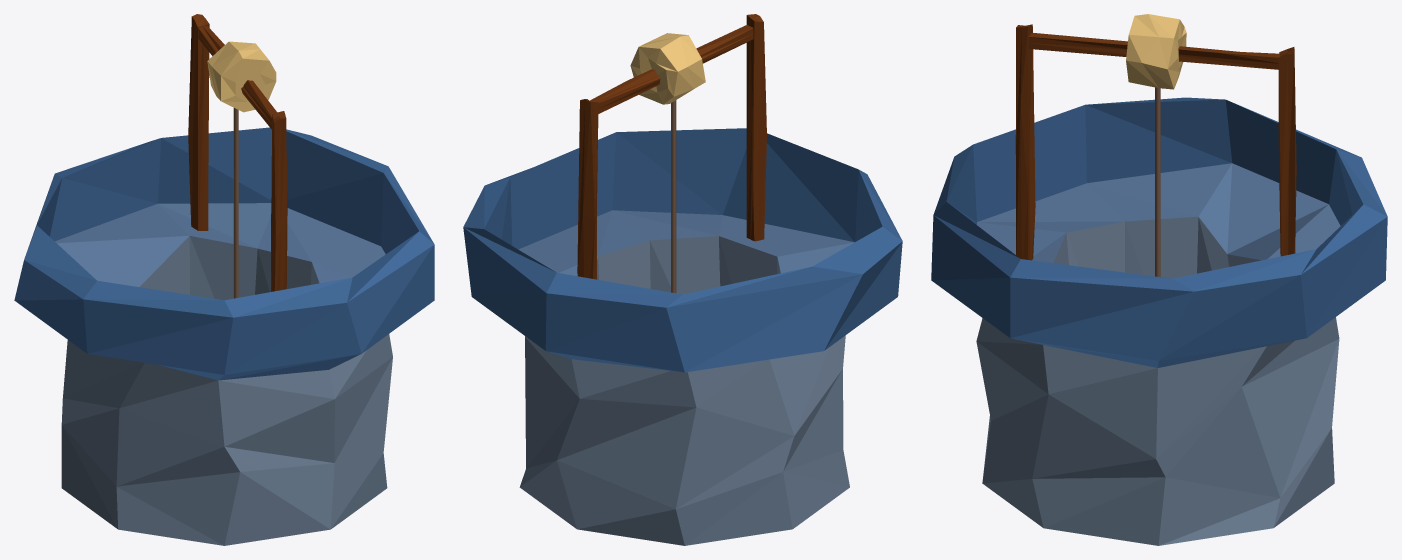
File: puit_01_vfns.FBX
3 views of the same model, side by side, from view 1: azimuth 30°, elevation 25°; view 2: azimuth 150°, elevation 25°; view 3: azimuth 270°, elevation 25° (orthographic). The views are drawn at different scales.
Visible parts, largest first — view 1: Cylinder001; view 2: Cylinder001; view 3: Cylinder001.
Part boxes in pixels (box(x1,y1,x2,y2)): Cylinder001: box(14, 14, 434, 545); Cylinder001: box(463, 14, 902, 545); Cylinder001: box(931, 14, 1387, 545).
Size of the model in its own units: 299789 by 327670 by 293876.
1 material, 1 textured.
